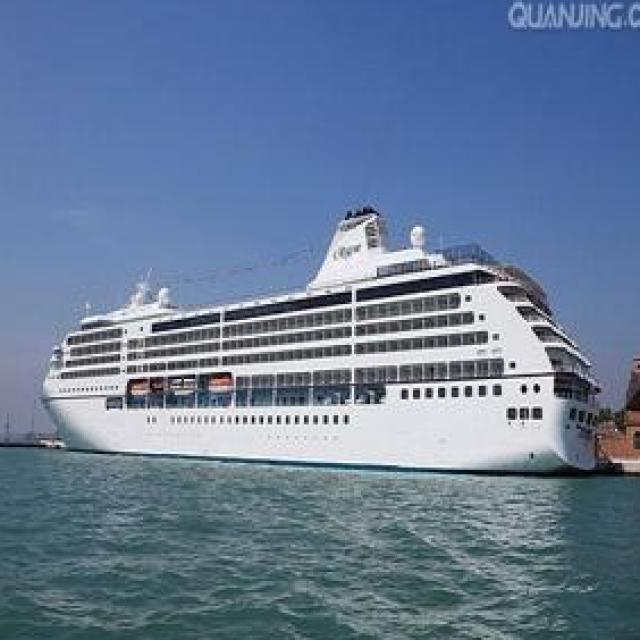passenger ship: (41, 234, 603, 476)
